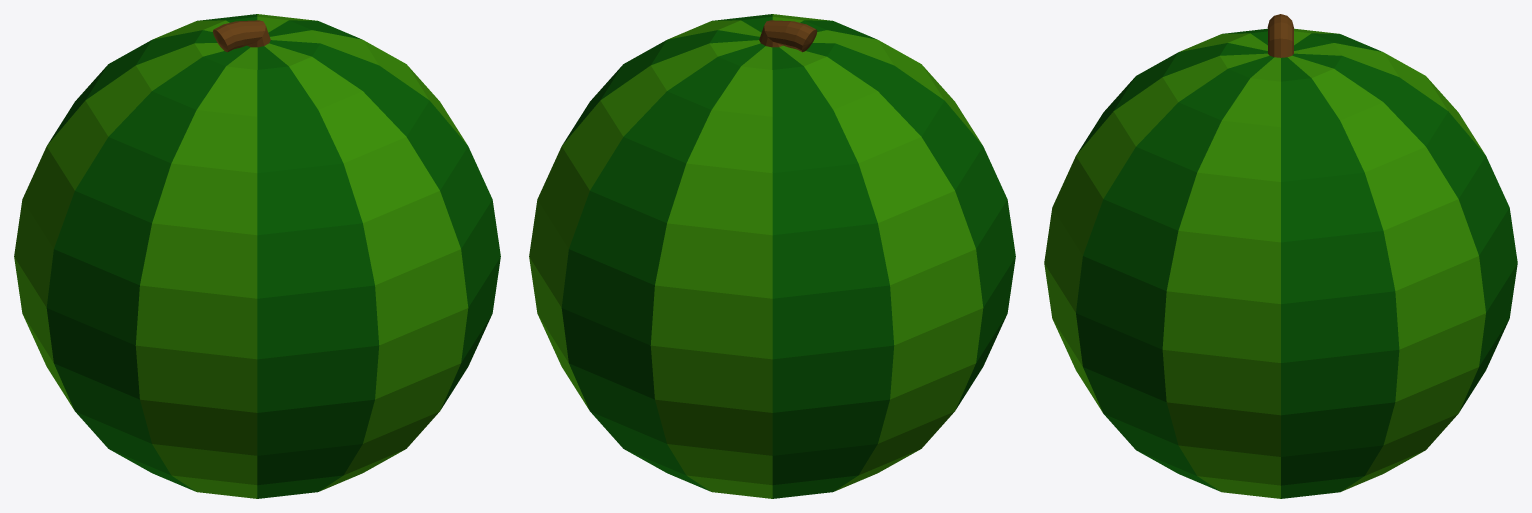
Rendered from Watermelon.fbx.
3 views of the same model, side by side, from view 1: azimuth 30°, elevation 25°; view 2: azimuth 150°, elevation 25°; view 3: azimuth 270°, elevation 25° (orthographic). The views are drawn at different scales.
Parts seen in each view (by area): view 1: Sphere; view 2: Sphere; view 3: Sphere.
Part boxes in pixels (x1,y1,x2,y2): Sphere: (14, 14, 500, 498); Sphere: (529, 14, 1015, 498); Sphere: (1044, 14, 1517, 498).
Bounding box in the file's own units: 200 × 208 × 200.
